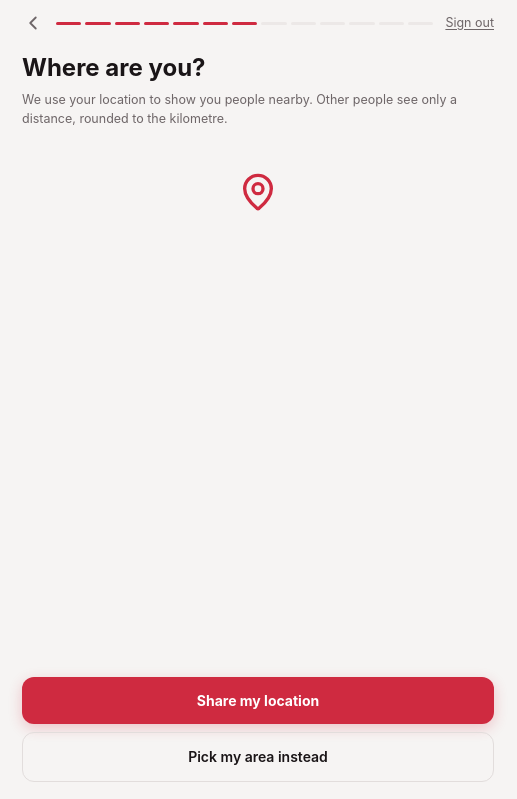
Scenario: the location question (T-4.10, D-220) › a browser answering 1 lands on the area picker, saying why
Click the button "Share my location".
click(258, 701)  # box top-left (22, 677), bottom-right (494, 724)
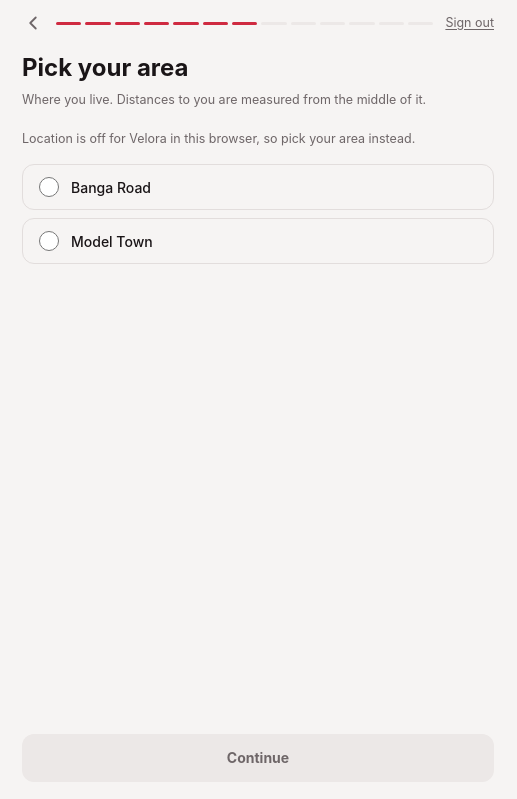
Check: the heading "Pick your area" is shown, box top-left (22, 53), bottom-right (188, 82)
Check: the message reads "Location is off for Velora in this browser, so pick your area instead.", box top-left (22, 130), bottom-right (415, 146)
Check: the radio button labelled "Model Town" is shown, box top-left (39, 231), bottom-right (59, 251)
